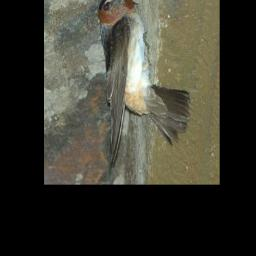Swallow: (97, 0, 191, 172)
